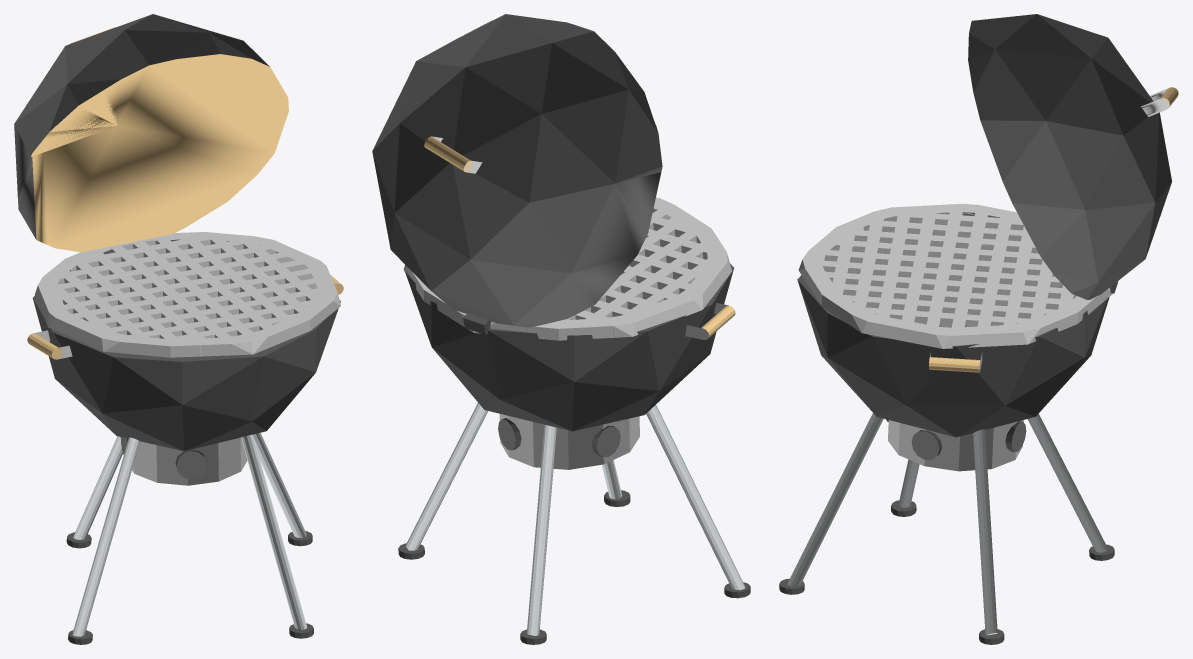
The model's file is grill.dae.
The picture shows the model from 3 angles, left to right: view 1: azimuth 30°, elevation 25°; view 2: azimuth 150°, elevation 25°; view 3: azimuth 270°, elevation 25°; orthographic projection. The views are drawn at different scales.
Visible parts, largest first — view 1: model; view 2: model; view 3: model.
Boxes of the visible parts, <box> form: model: <box>14,14,343,644</box>; model: <box>372,14,750,644</box>; model: <box>779,14,1178,644</box>.
Size of the model in its own units: 3.87 by 4.43 by 6.76.
